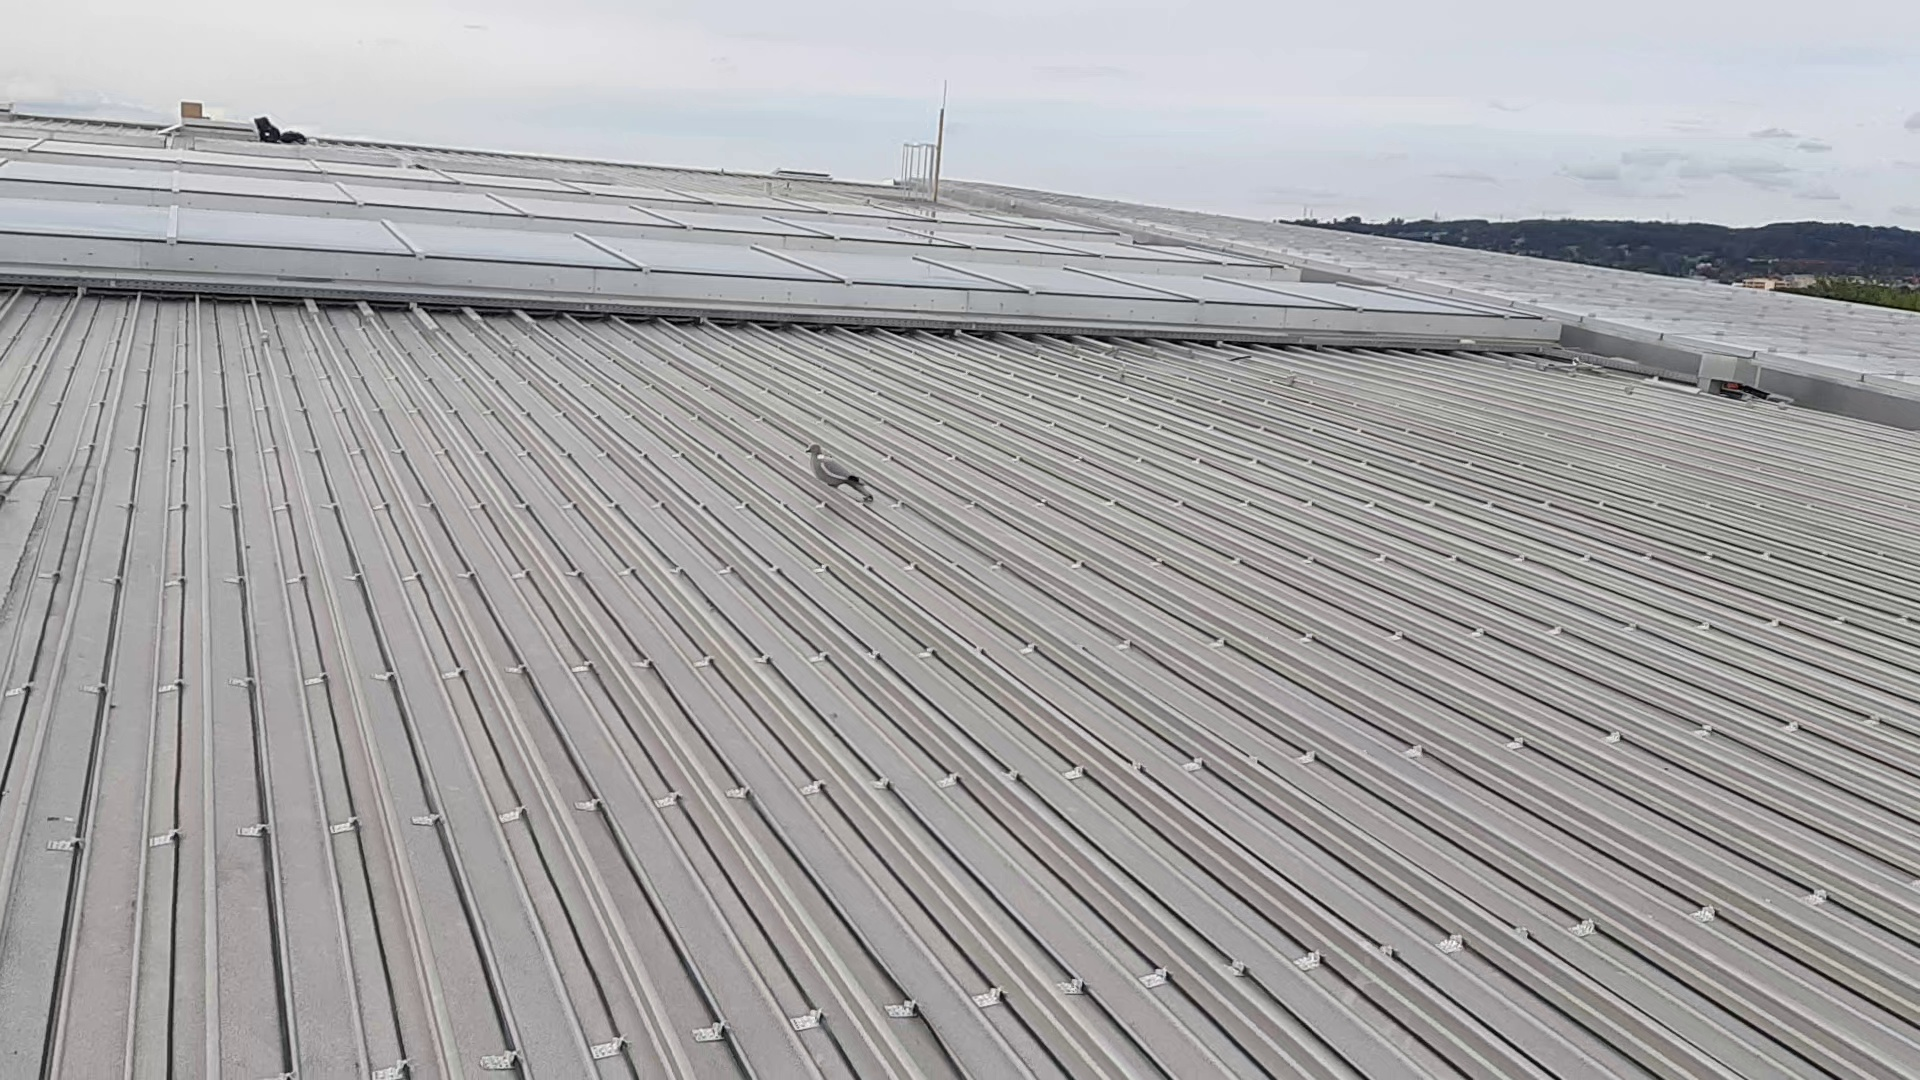Pigeon: (803, 442, 874, 500)
